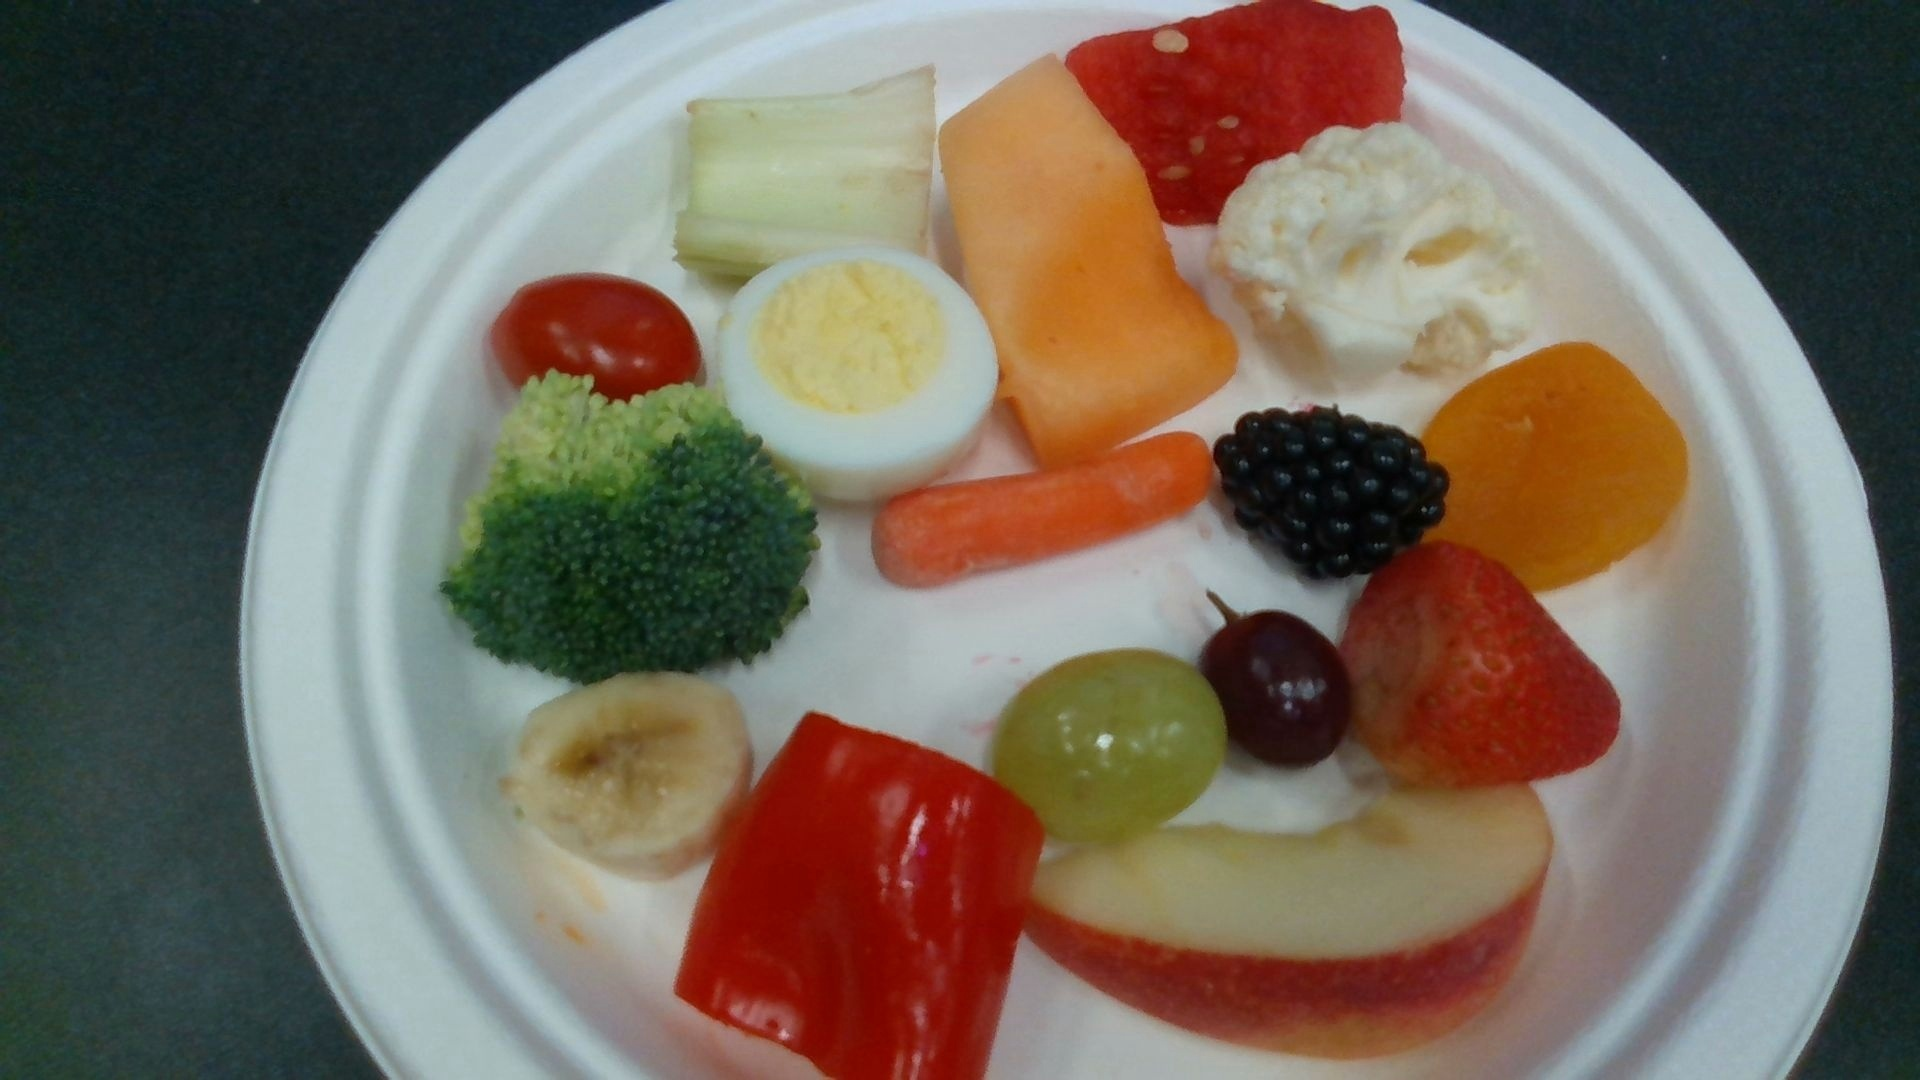apple: (1025, 789, 1547, 1055)
apricot: (1415, 343, 1689, 593)
banana: (512, 673, 746, 878)
bell_pepper: (679, 715, 1040, 1080)
blackberry: (1220, 411, 1444, 576)
broccoli: (440, 373, 814, 676)
cantalope: (942, 58, 1230, 460)
carrot: (874, 436, 1212, 588)
cauliflower: (1212, 127, 1532, 371)
celery: (676, 65, 934, 276)
cherry_tomato: (491, 273, 702, 411)
egg: (720, 248, 994, 495)
grape_green: (1002, 651, 1224, 837)
grape_purple: (1200, 613, 1346, 766)
melon: (1064, 5, 1404, 223)
strawberry: (1340, 545, 1619, 785)
